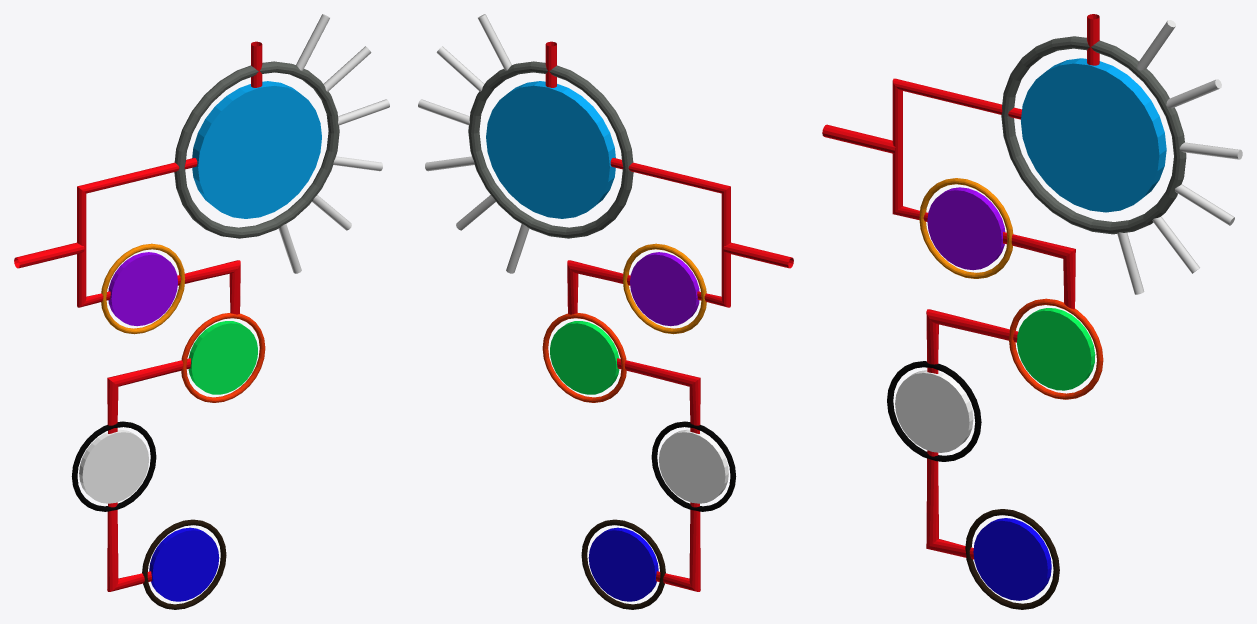
The model's file is 6 vite.FBX.
The picture shows the model from 3 angles, left to right: view 1: azimuth 30°, elevation 25°; view 2: azimuth 150°, elevation 25°; view 3: azimuth 330°, elevation 25°; orthographic projection. The views are drawn at different scales.
Visible parts, largest first — view 1: Cerchio Vita, Struttura, Object001, PowerUp_01, PowerUp_03, PowerUp_04, PowerUp_02, Cylinder001, Anello_04, Anello_01, Anello_02, Anello_03; view 2: Cerchio Vita, Struttura, Object001, PowerUp_01, PowerUp_03, PowerUp_04, PowerUp_02, Cylinder001, Anello_04, Anello_01, Anello_02, Anello_03; view 3: Cerchio Vita, Struttura, Object001, PowerUp_04, PowerUp_02, PowerUp_03, PowerUp_01, Cylinder001, Anello_04, Anello_01, Anello_02, Anello_03.
Part boxes in pixels (x1,y1,x2,y2): Cerchio Vita: (192,81,321,218); Struttura: (14,41,262,591); Object001: (174,61,339,238); PowerUp_01: (108,252,177,326); PowerUp_03: (79,429,148,503); PowerUp_04: (149,527,219,601); PowerUp_02: (188,321,257,394); Cylinder001: (278,14,389,273); Anello_04: (142,519,226,609); Anello_01: (101,243,185,334); Anello_02: (181,313,265,402); Anello_03: (71,421,156,511); Cerchio Vita: (486,81,615,218); Struttura: (545,41,793,591); Object001: (468,61,633,238); PowerUp_01: (630,252,699,326); PowerUp_03: (659,429,728,503); PowerUp_04: (588,527,658,601); PowerUp_02: (550,321,619,394); Cylinder001: (418,14,529,273); Anello_04: (581,519,665,609); Anello_01: (622,243,706,334); Anello_02: (542,313,626,402); Anello_03: (651,421,736,511); Cerchio Vita: (1021,58,1166,212); Struttura: (822,14,1099,559); Object001: (1001,36,1186,234); PowerUp_04: (973,518,1051,600); PowerUp_02: (1017,308,1095,390); PowerUp_03: (895,370,973,452); PowerUp_01: (927,187,1005,270); Cylinder001: (1117,20,1242,294); Anello_04: (965,509,1059,609); Anello_01: (919,178,1013,278); Anello_02: (1009,298,1103,399); Anello_03: (887,361,981,461).
Bounding box in the file's own units: 144 × 208 × 4.37.
